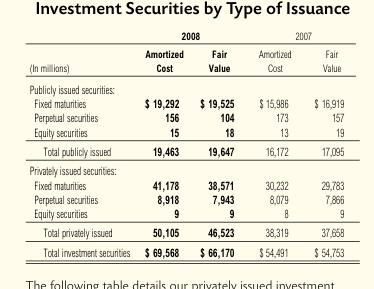table: (28, 29, 343, 258)
table column: (28, 29, 136, 258), (245, 29, 302, 258), (190, 29, 245, 258), (136, 29, 190, 258), (302, 29, 343, 258)
table column header: (28, 29, 343, 77)
table projected row header: (28, 77, 343, 95), (28, 160, 343, 177)
table row: (28, 44, 343, 77), (28, 141, 343, 160), (28, 222, 343, 241), (28, 77, 343, 95), (28, 124, 343, 141), (28, 160, 343, 177), (28, 205, 343, 222), (28, 241, 343, 258), (28, 29, 343, 44), (28, 95, 343, 110), (28, 110, 343, 124), (28, 177, 343, 191), (28, 191, 343, 205)
table spanning cell: (28, 29, 136, 77), (136, 29, 245, 44), (245, 29, 343, 44)
